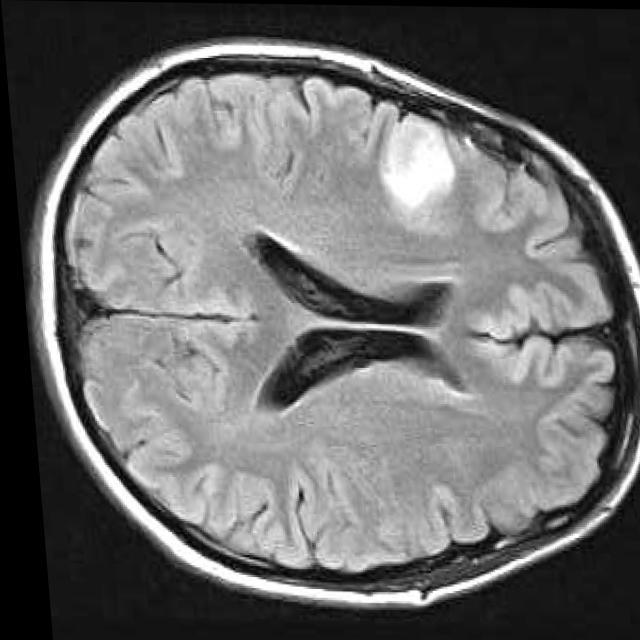Tumor: (379, 112, 448, 202)
